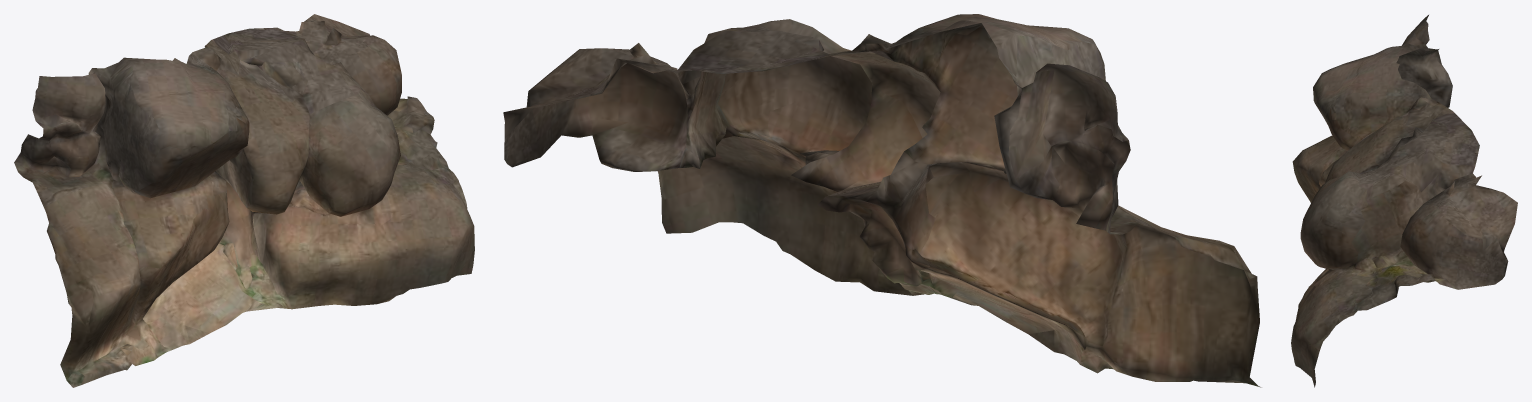
File: cliff_01.glb
3 renders of one model, left to right at view 1: azimuth 30°, elevation 25°; view 2: azimuth 150°, elevation 25°; view 3: azimuth 270°, elevation 25°, orthographic. The views are drawn at different scales.
Visible parts, largest first — view 1: cliff_01; view 2: cliff_01; view 3: cliff_01.
Boxes of the visible parts, x1=… form: cliff_01: x1=14, y1=14, x2=474, y2=387; cliff_01: x1=503, y1=14, x2=1261, y2=387; cliff_01: x1=1291, y1=15, x2=1517, y2=387.
Size of the model in its own units: 13.98 by 8.37 by 7.41.
Materials: 1 (1 with a texture image).
